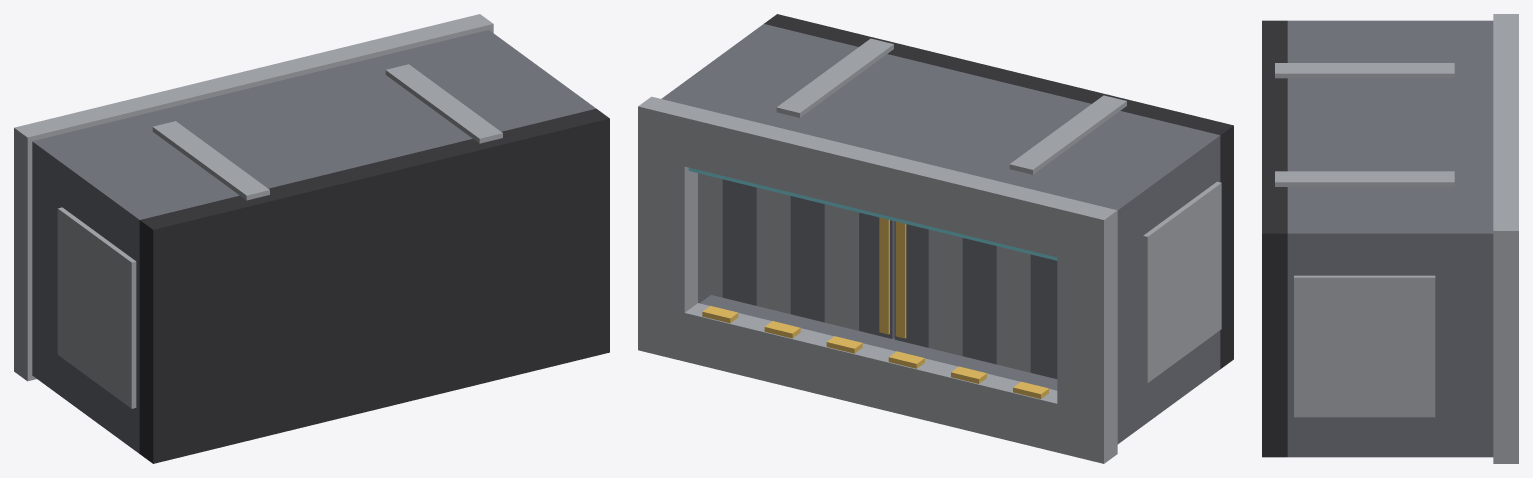
File: intake_accordion_2x1x1.glb
3 renders of one model, left to right at view 1: azimuth 30°, elevation 25°; view 2: azimuth 150°, elevation 25°; view 3: azimuth 270°, elevation 25°, orthographic. The views are drawn at different scales.
Parts seen in each view (by area): view 1: object 1; view 2: object 1, intake_slat_r5, intake_slat_l5, intake_slat_r4, intake_slat_l2, intake_slat_r1, intake_slat_r3, intake_slat_l3, intake_slat_l4, intake_slat_r2, intake_slat_l1, intake_slat_r0; view 3: object 1.
Part boxes in pixels (left/top/right/bottom): object 1: left=14, top=14, right=609, bottom=463; object 1: left=638, top=14, right=1233, bottom=463; intake_slat_r5: left=858, top=212, right=894, bottom=338; intake_slat_l5: left=894, top=221, right=928, bottom=347; intake_slat_r4: left=824, top=204, right=858, bottom=330; intake_slat_l2: left=996, top=246, right=1030, bottom=372; intake_slat_r1: left=722, top=179, right=756, bottom=305; intake_slat_r3: left=790, top=196, right=824, bottom=322; intake_slat_l3: left=962, top=238, right=996, bottom=364; intake_slat_l4: left=928, top=229, right=962, bottom=355; intake_slat_r2: left=756, top=187, right=790, bottom=313; intake_slat_l1: left=1030, top=254, right=1057, bottom=378; intake_slat_r0: left=698, top=173, right=722, bottom=297; object 1: left=1262, top=14, right=1518, bottom=463.
Bounding box in the file's own units: 2 × 1 × 1.
